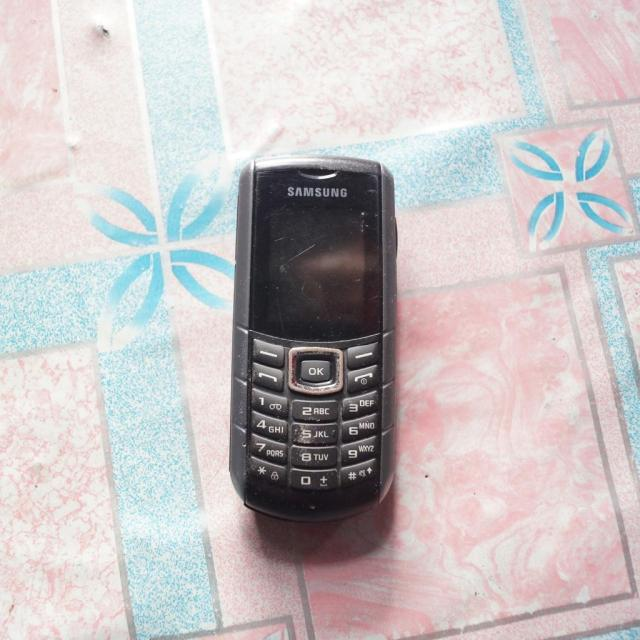Phone: (228, 155, 398, 520)
